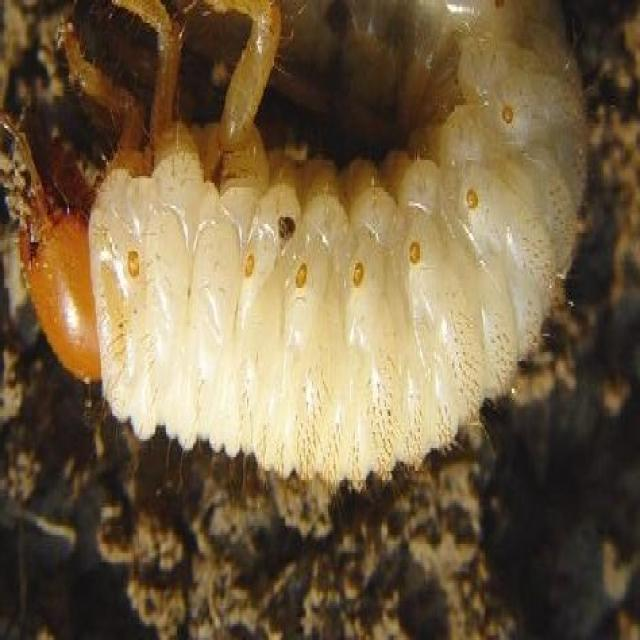grub: (24, 1, 599, 481)
